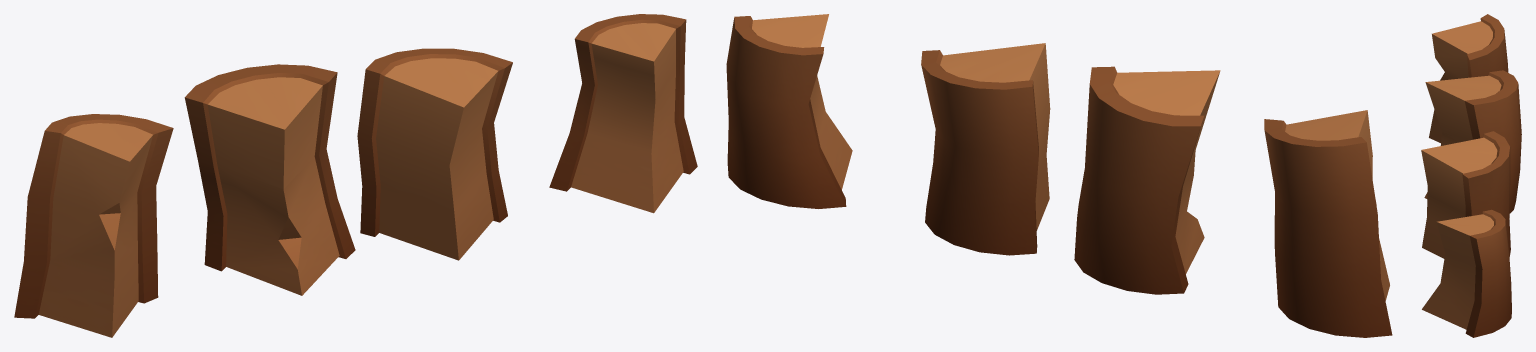
The model's file is Fire Wood.glb.
3 views of the same model, side by side, from view 1: azimuth 30°, elevation 25°; view 2: azimuth 150°, elevation 25°; view 3: azimuth 270°, elevation 25° (orthographic). The views are drawn at different scales.
Visible parts, largest first — view 1: Firewood.002, Firewood.003, Firewood.001, Firewood; view 2: Firewood.002, Firewood.001, Firewood.003, Firewood; view 3: Firewood, Firewood.001, Firewood.002, Firewood.003.
Boxes of the visible parts, x1,y1,x2,y2 form: Firewood.002: (184,64,355,295); Firewood.003: (14,114,173,337); Firewood.001: (357,48,512,260); Firewood: (549,14,697,213); Firewood.002: (1074,66,1220,294); Firewood.001: (921,43,1050,255); Firewood.003: (1264,110,1392,337); Firewood: (726,14,852,208); Firewood: (1422,209,1511,337); Firewood.001: (1421,131,1510,258); Firewood.002: (1424,70,1521,213); Firewood.003: (1429,14,1508,142).
Bounding box in the file's own units: 1.74 × 0.4587 × 0.3486.
1 material, 1 textured.
